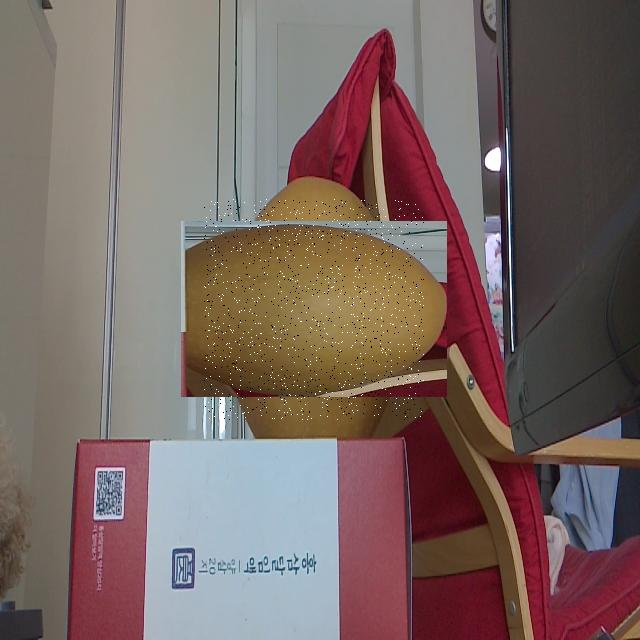pear: (204, 199, 424, 420)
